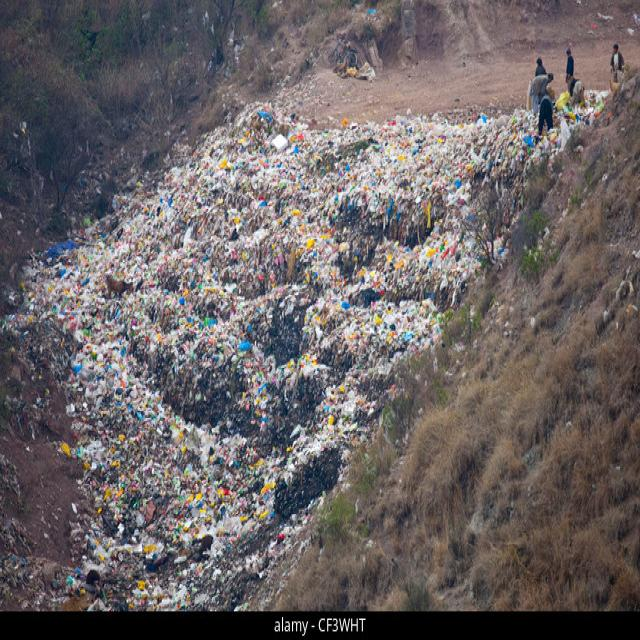trash: (209, 120, 529, 352), (94, 385, 325, 584), (75, 192, 202, 351)
